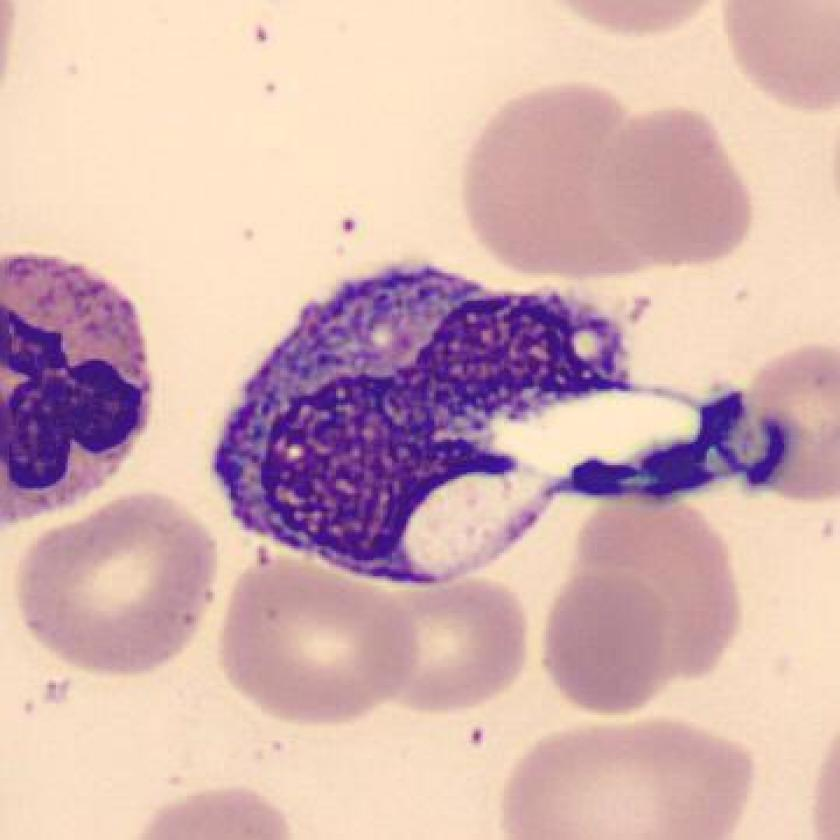monocyte: (192, 237, 652, 600)
